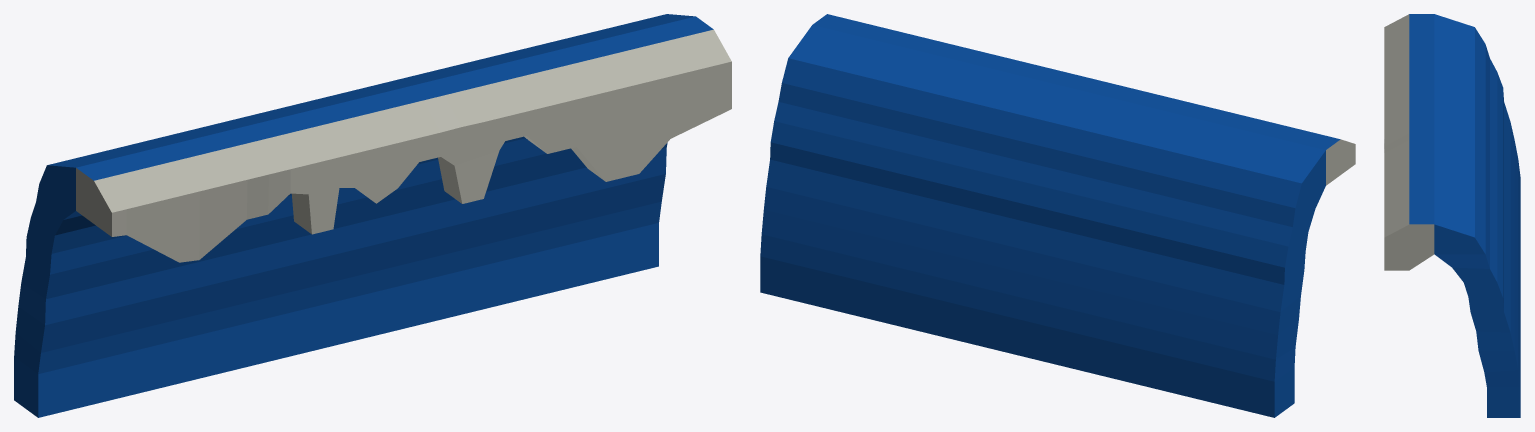
File: wave_model.obj
3 views of the same model, side by side, from view 1: azimuth 30°, elevation 25°; view 2: azimuth 150°, elevation 25°; view 3: azimuth 270°, elevation 25° (orthographic). The views are drawn at different scales.
Visible parts, largest first — view 1: Cube; view 2: Cube; view 3: Cube.
Boxes of the visible parts, bbox=[...] form: Cube: bbox=[14, 14, 731, 417]; Cube: bbox=[760, 14, 1355, 417]; Cube: bbox=[1384, 14, 1520, 417].
Size of the model in its own units: 29.75 by 12.71 by 8.11.
